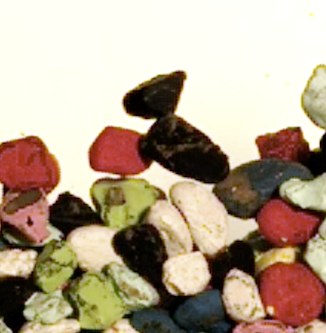black: (139, 114, 230, 183), (112, 224, 168, 295), (123, 71, 187, 119), (207, 241, 254, 294), (48, 193, 108, 234), (1, 276, 34, 333)
blue: (212, 158, 312, 220), (175, 290, 231, 333)
green: (90, 177, 163, 228), (64, 271, 124, 332), (103, 260, 163, 311), (36, 243, 76, 293), (22, 292, 74, 324)
pink: (1, 193, 49, 244)
red: (261, 263, 323, 326), (88, 126, 154, 177), (2, 136, 62, 191), (255, 199, 320, 247), (254, 126, 309, 164)
white: (169, 179, 226, 255), (145, 200, 192, 255), (163, 252, 210, 296), (1, 248, 36, 277)
yellow: (255, 247, 294, 271)
